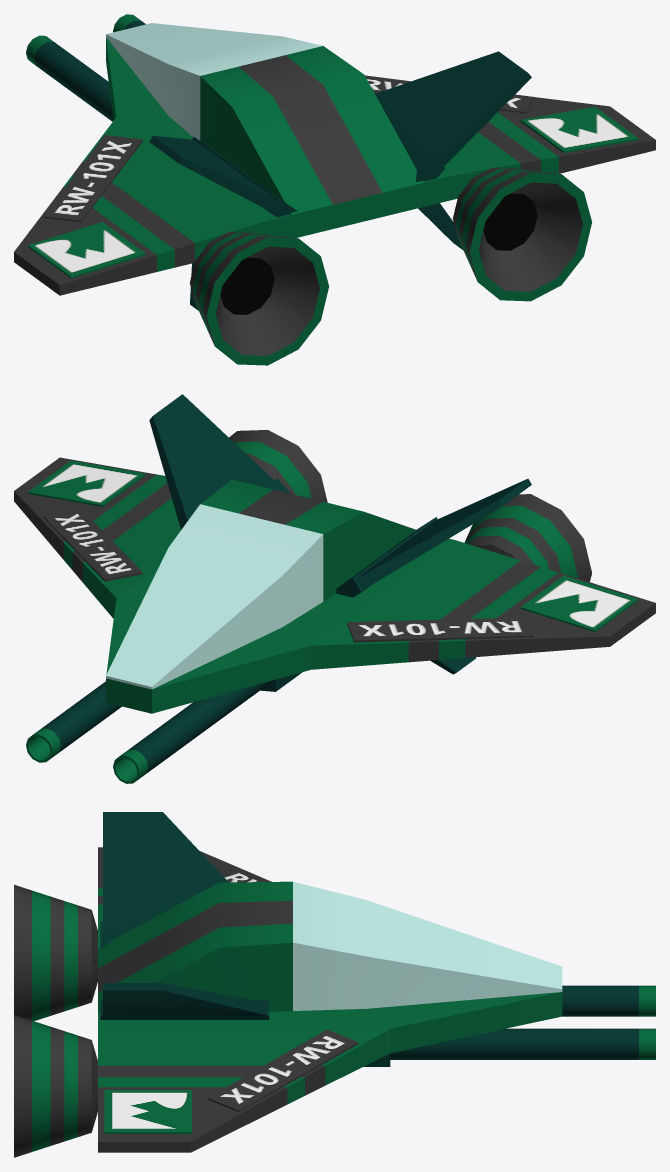
The model's file is RW_SpaceShip.fbx.
3 renders of one model, top to bottom at view 1: azimuth 30°, elevation 25°; view 2: azimuth 150°, elevation 25°; view 3: azimuth 270°, elevation 25°, orthographic.
Parts seen in each view (by area): view 1: RW_SpaceShip; view 2: RW_SpaceShip; view 3: RW_SpaceShip.
Boxes of the visible parts, x1,y1,x2,y2 form: RW_SpaceShip: (14,14,655,365); RW_SpaceShip: (14,394,655,783); RW_SpaceShip: (14,812,655,1157).
Size of the model in its own units: 7.05 by 2.1 by 6.49.
